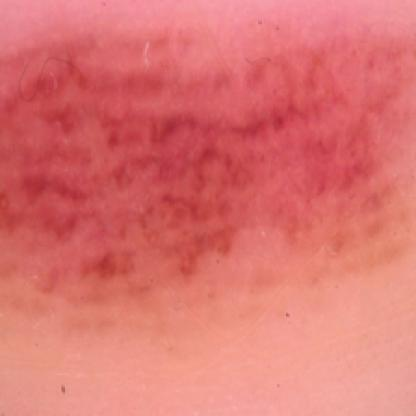benign: (11, 41, 399, 301)
